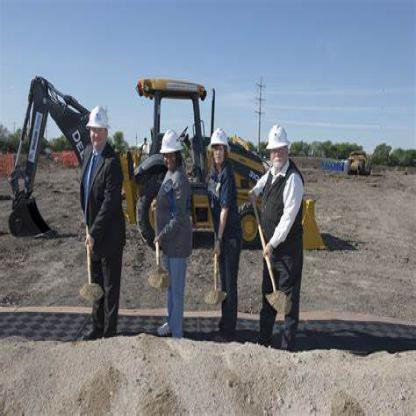person: (254, 113, 324, 371), (146, 116, 200, 362), (202, 115, 247, 362), (73, 96, 117, 346)
